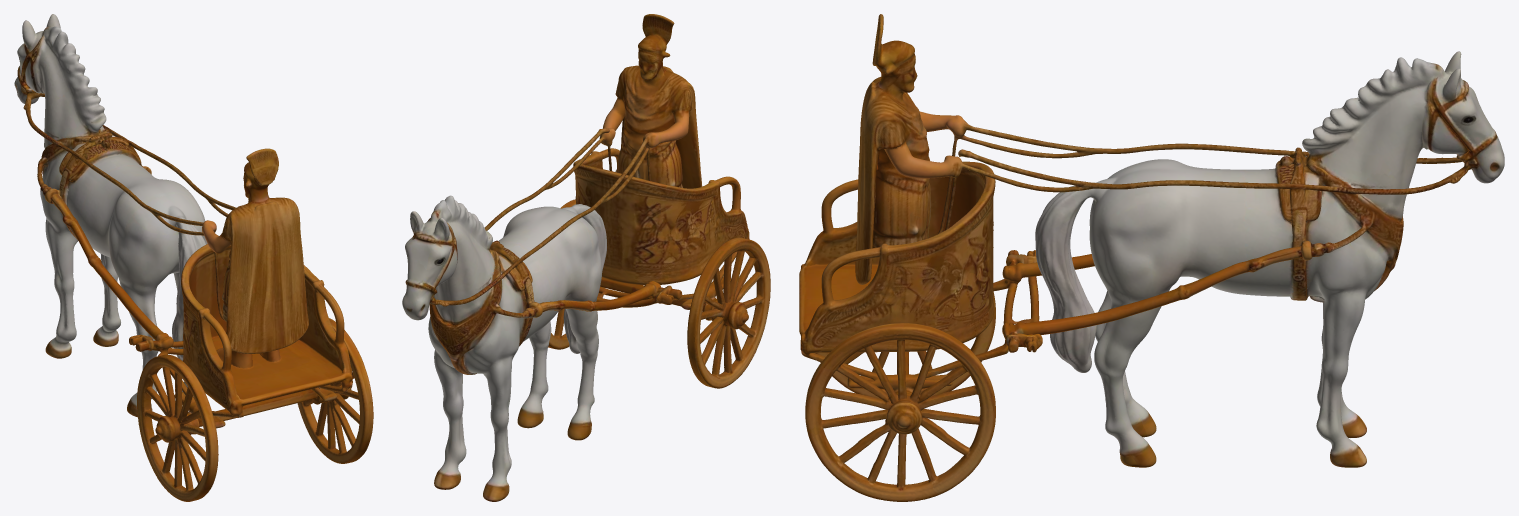
3 views of the same model, side by side, from view 1: azimuth 30°, elevation 25°; view 2: azimuth 150°, elevation 25°; view 3: azimuth 270°, elevation 25° (orthographic). The views are drawn at different scales.
Visible parts, largest first — view 1: tripo_node_5d91c372-6149-4296-a77d-da55115b8b47; view 2: tripo_node_5d91c372-6149-4296-a77d-da55115b8b47; view 3: tripo_node_5d91c372-6149-4296-a77d-da55115b8b47.
Boxes of the visible parts, box(x1,y1,x2,y2) form: tripo_node_5d91c372-6149-4296-a77d-da55115b8b47: box(14, 14, 373, 501); tripo_node_5d91c372-6149-4296-a77d-da55115b8b47: box(402, 14, 770, 501); tripo_node_5d91c372-6149-4296-a77d-da55115b8b47: box(799, 14, 1504, 501).
Bounding box in the file's own units: 0.4133 × 0.6745 × 1.
1 material, 1 textured.
